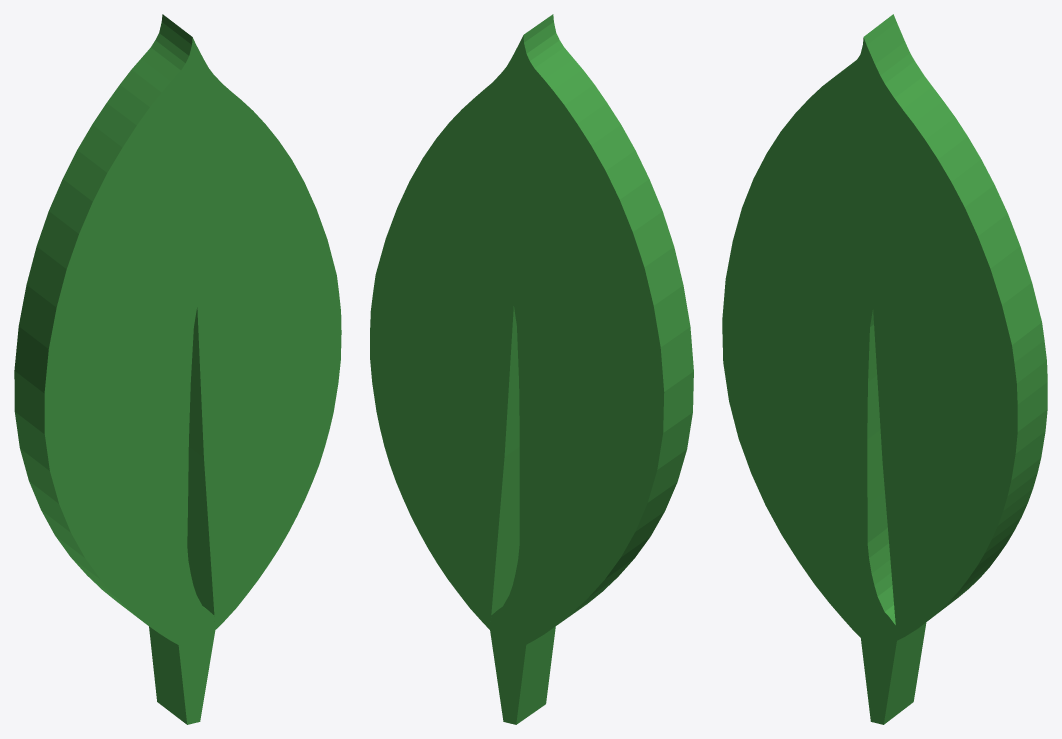
Rendered from Mongodb_model.glb.
3 renders of one model, left to right at view 1: azimuth 30°, elevation 25°; view 2: azimuth 150°, elevation 25°; view 3: azimuth 330°, elevation 25°, orthographic.
Parts seen in each view (by area): view 1: Curve; view 2: Curve; view 3: Curve.
Boxes of the visible parts, x1,y1,x2,y2 form: Curve: (14, 14, 341, 724); Curve: (370, 14, 693, 724); Curve: (722, 14, 1047, 724).
Size of the model in its own units: 0.3037 by 0.678 by 0.0646.
